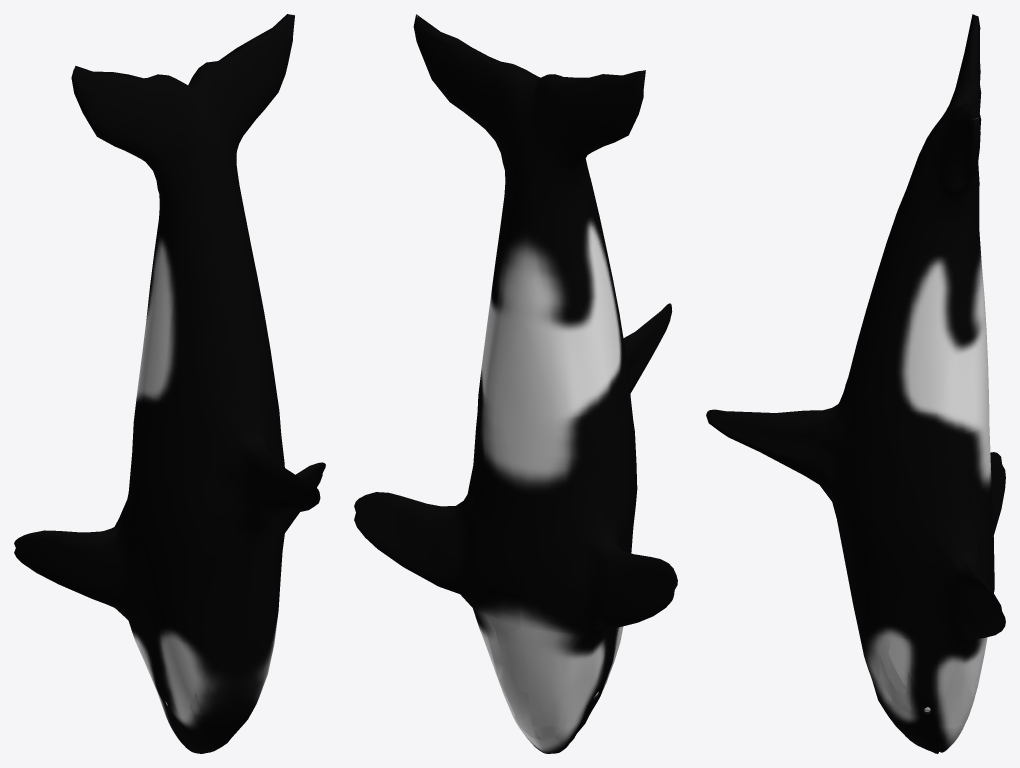
3 renders of one model, left to right at view 1: azimuth 30°, elevation 25°; view 2: azimuth 150°, elevation 25°; view 3: azimuth 270°, elevation 25°, orthographic. The views are drawn at different scales.
Visible parts, largest first — view 1: orca; view 2: orca; view 3: orca.
Part boxes in pixels (x1,y1,x2,y2): orca: (14, 14, 325, 753); orca: (354, 14, 677, 753); orca: (706, 14, 1005, 753).
Size of the model in its own units: 4.48 by 9.59 by 3.81.
